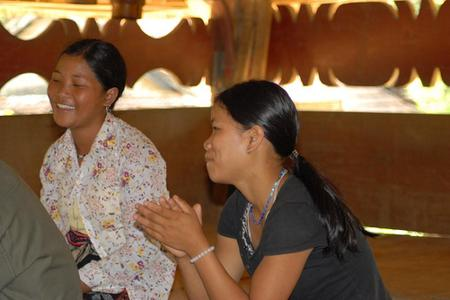person: (134, 79, 395, 300)
